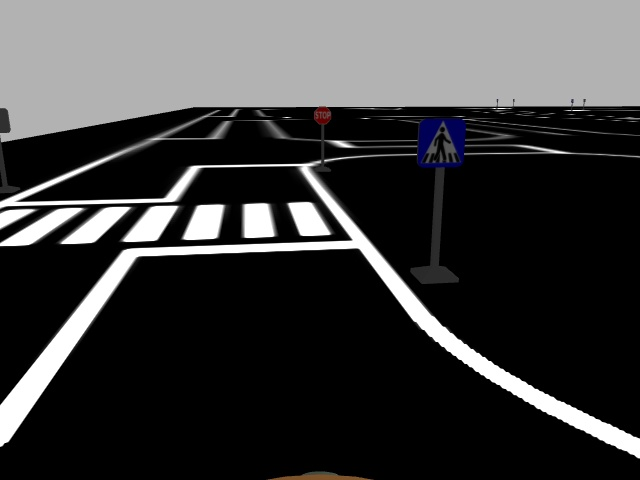crosswalk: (417, 116, 467, 170)
stop: (312, 105, 333, 125)
